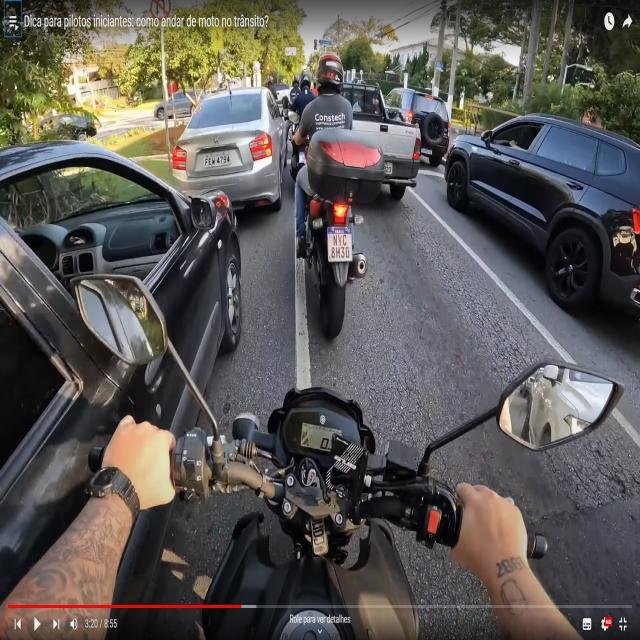placa_moto: (326, 219, 355, 268)
